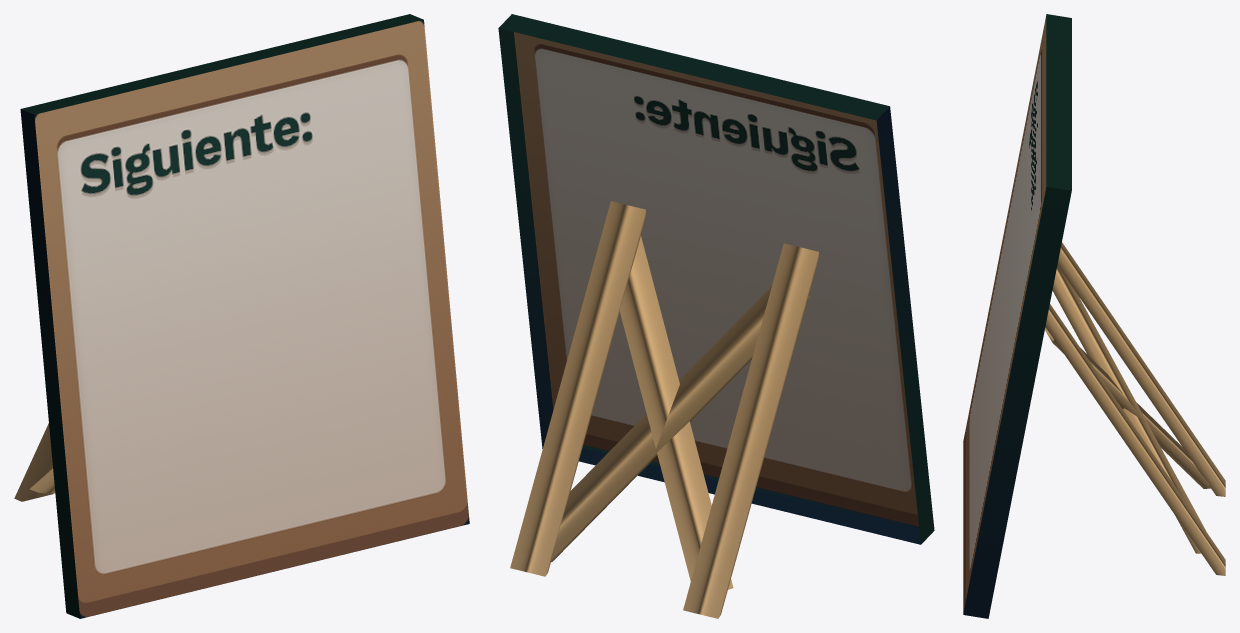
Rendered from Board.fbx.
The picture shows the model from 3 angles, left to right: view 1: azimuth 30°, elevation 25°; view 2: azimuth 150°, elevation 25°; view 3: azimuth 270°, elevation 25°; orthographic projection. The views are drawn at different scales.
Parts seen in each view (by area): view 1: Box012; view 2: Box012; view 3: Box012.
Boxes of the visible parts, <box> form: Box012: <box>14,14,469,618</box>; Box012: <box>498,14,934,618</box>; Box012: <box>963,14,1225,618</box>.
Bounding box in the file's own units: 29 × 18.61 × 33.8.
